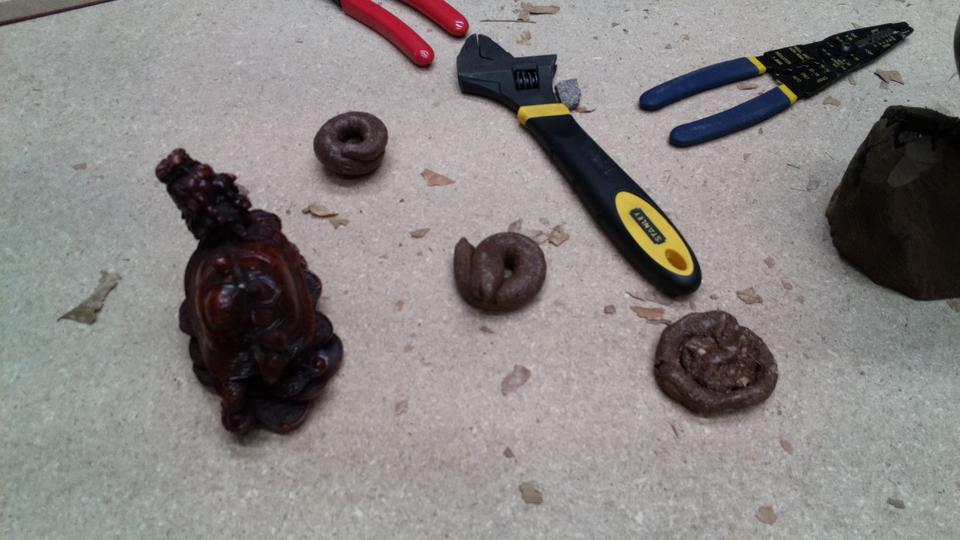poop: (650, 309, 779, 418), (450, 228, 551, 317), (310, 108, 394, 185)
